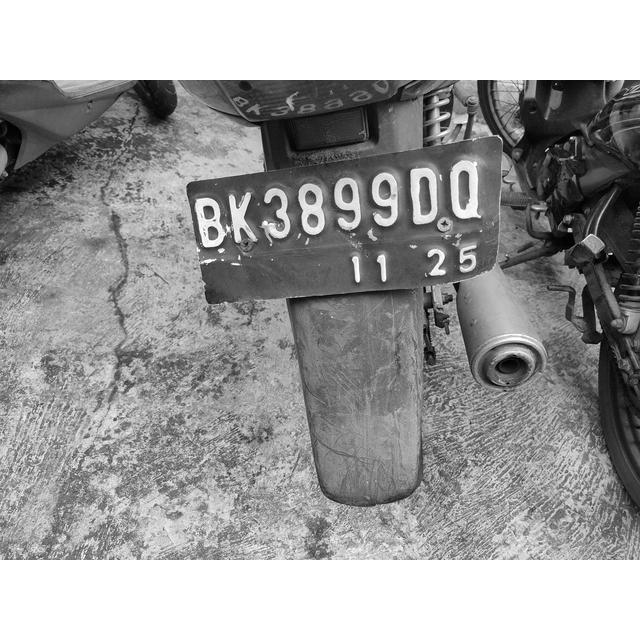license: (192, 152, 495, 297)
